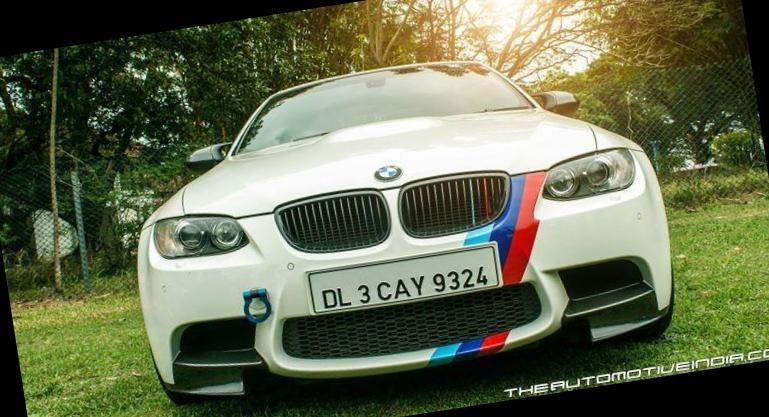plate: (300, 241, 504, 332)
